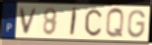8: (42, 7, 58, 36)
C: (84, 8, 103, 38)
G: (126, 9, 147, 39)
I: (69, 7, 79, 38)
Q: (105, 7, 125, 40)
V: (19, 7, 40, 35)
